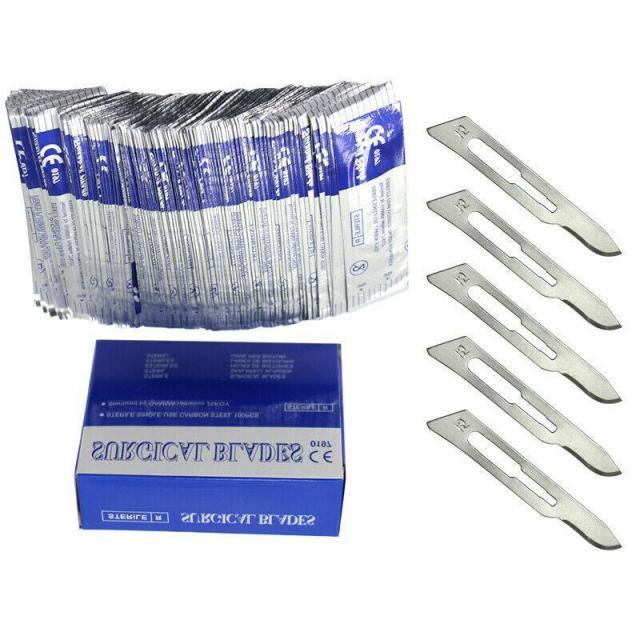Scalpel: (422, 113, 625, 260), (423, 334, 625, 480), (427, 406, 626, 554), (425, 259, 624, 406), (426, 188, 622, 334)
